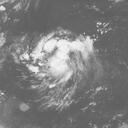cyclone: (19, 26, 94, 101)
